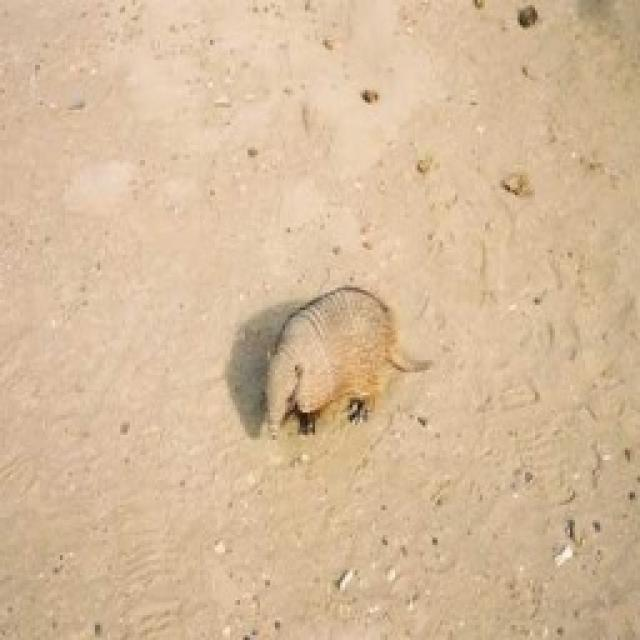not_pig: (260, 282, 430, 440)
